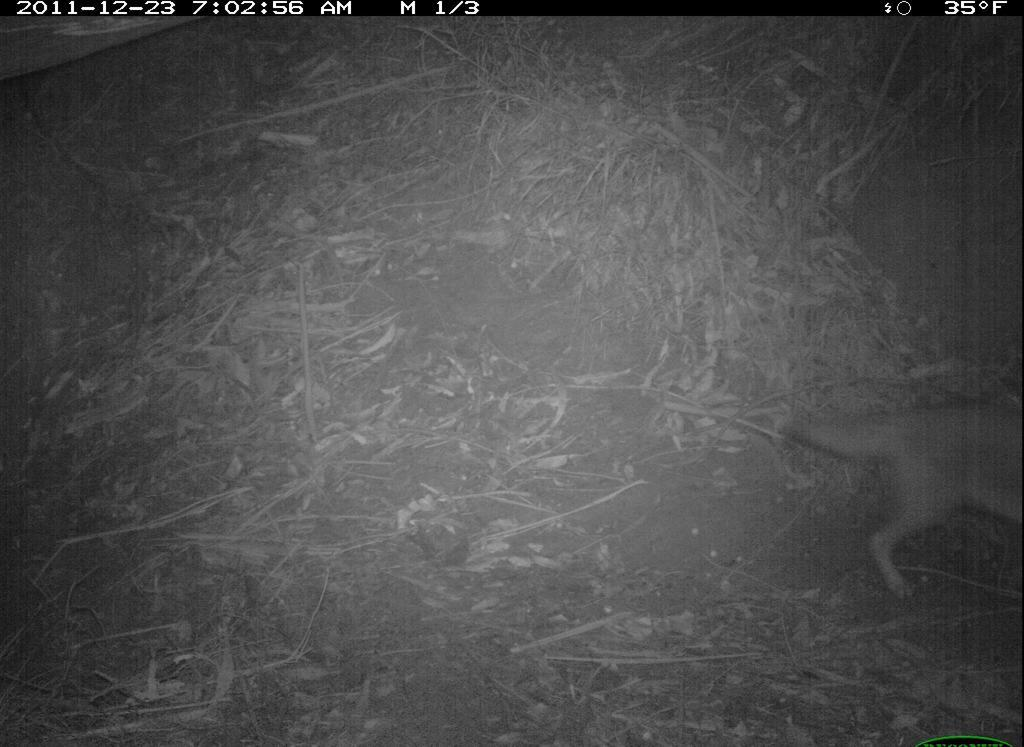coyote: (775, 374, 1018, 601)
